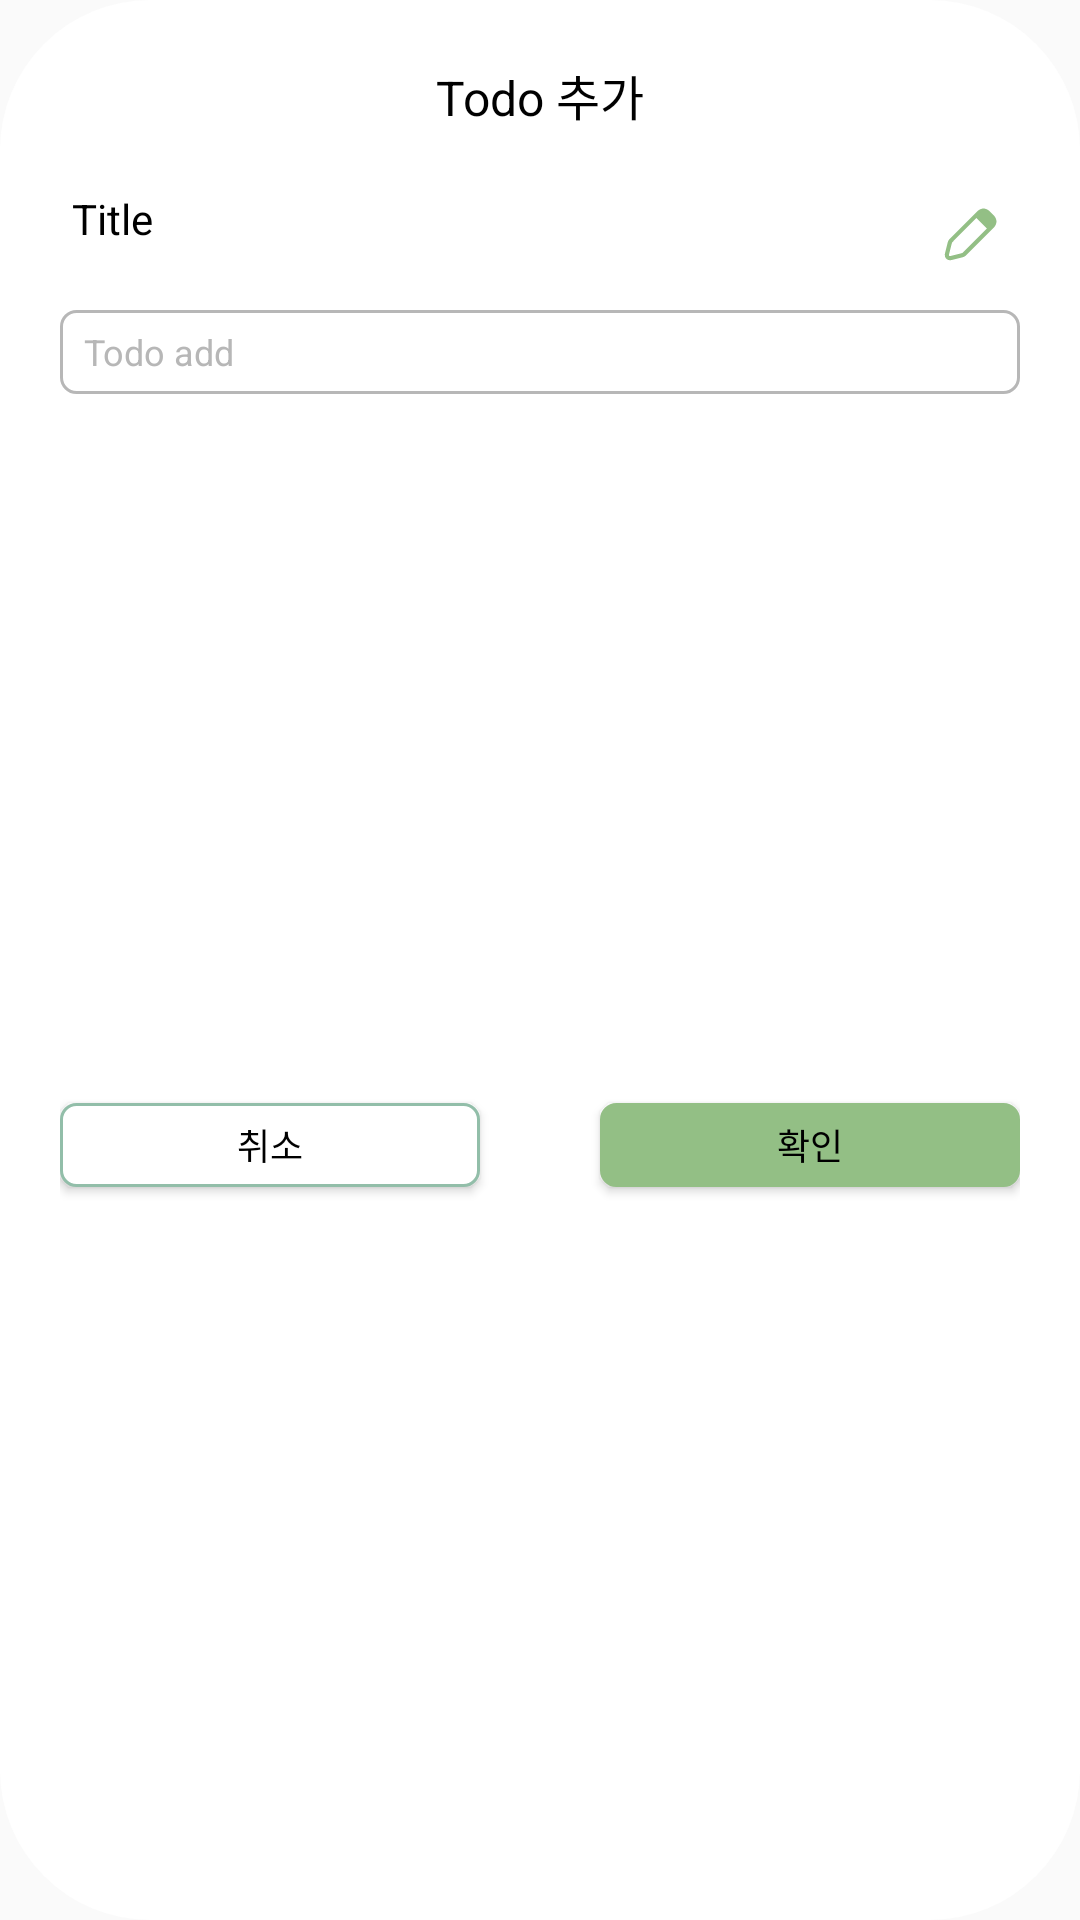

Icon bounding boxes for this 1080*1920 phone screenshot, format {"x1": x1, "y1": y1, "x2": x2, "y2": y2}:
edit todo: {"x1": 944, "y1": 208, "x2": 997, "y2": 261}
